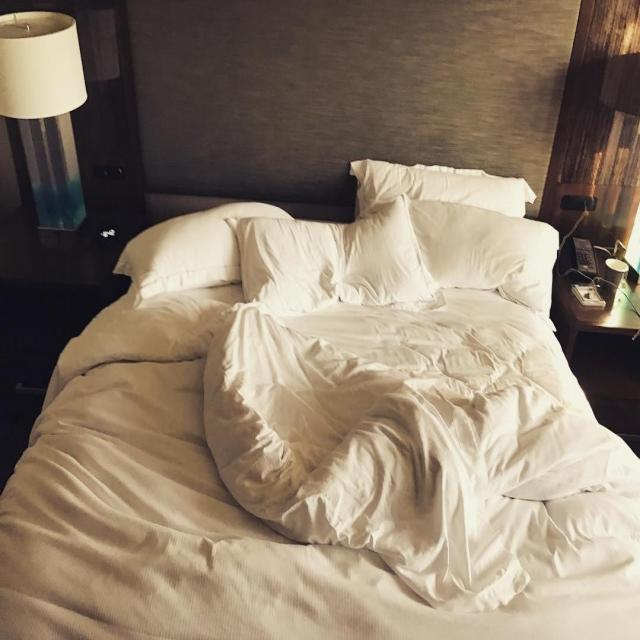bed: (40, 172, 639, 640)
